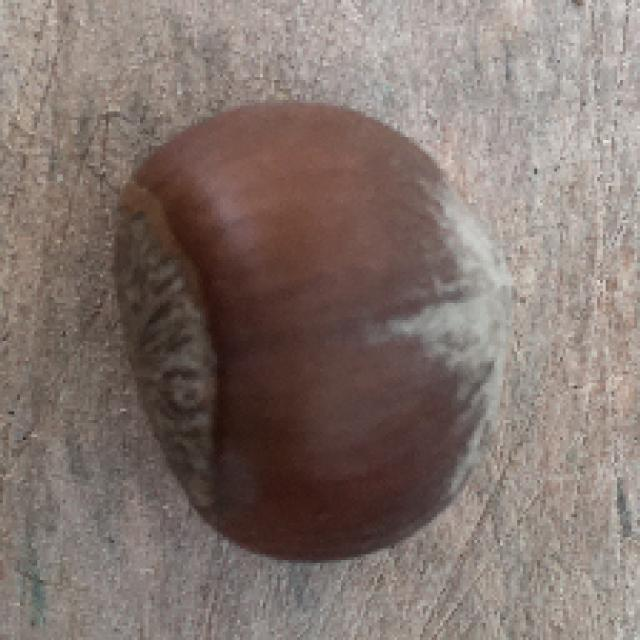damagedHazelnut: (92, 91, 506, 568)
